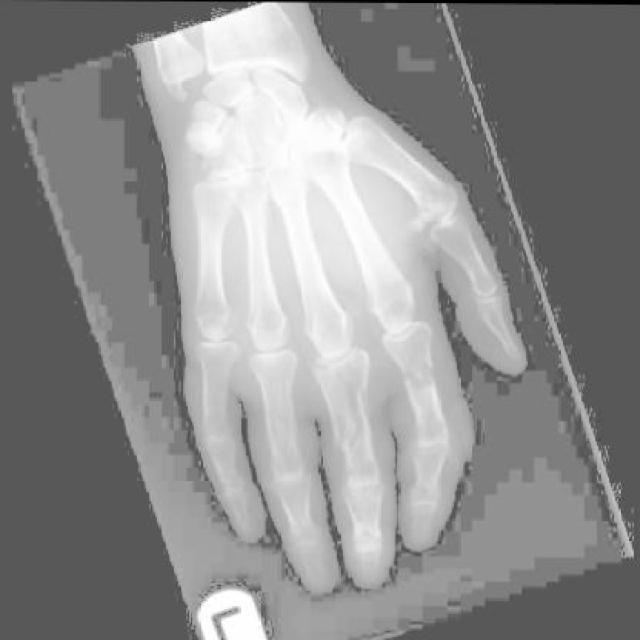Fracture: (317, 391, 386, 469), (252, 402, 311, 478), (393, 353, 442, 407)
